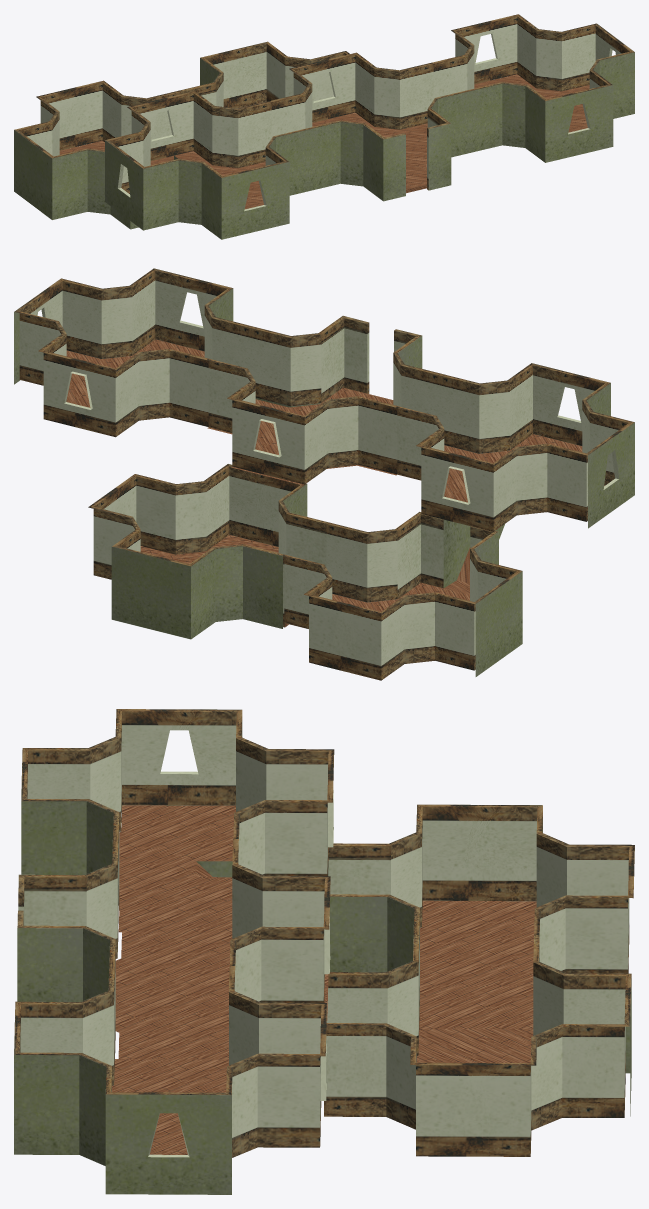
File: HouseInterior_3x1xbasementDoble.fbx
3 views of the same model, one above another, from view 1: azimuth 30°, elevation 25°; view 2: azimuth 150°, elevation 25°; view 3: azimuth 270°, elevation 25° (orthographic). The views are drawn at different scales.
Visible parts, largest first — view 1: sotano_01, pared_lv3_01, pared_lv3_02, pared_lv3_03, sotano_04, pared_lv1_04, pared_lv1_01, pared_lv2_06, pared_lv2_04, pared_lv2_02, pared_lv1_03, pared_lateral_07 (+8 smaller); view 2: sotano_04, sotano_01, pared_lv3_01, pared_lv3_03, pared_lv3_02, pared_lv1_01, pared_lv1_04, pared_lv2_03, pared_lv2_01, pared_lv2_05, pared_lv1_02, pared_lateral_07 (+8 smaller); view 3: sotano_01, sotano_04, suelo_bajada_02, suelo_06, pared_lv3_01, pared_lv3_02, pared_lv3_03, pared_lateral_08, pared_lv1_01, pared_lateral_07, pared_lv1_04, pared_lv1_02 (+8 smaller).
Part boxes in pixels (box(x1,y1,x2,y2)): sotano_01: box(14, 80, 180, 229); pared_lv3_01: box(432, 14, 596, 99); pared_lv3_02: box(270, 52, 433, 137); pared_lv3_03: box(105, 91, 271, 193); sotano_04: box(180, 41, 349, 108); pared_lv1_04: box(201, 147, 289, 239); pared_lv1_01: box(525, 70, 613, 162); pared_lv2_06: box(143, 159, 203, 230); pared_lv2_04: box(306, 120, 364, 191); pared_lv2_02: box(469, 82, 527, 152); pared_lv1_03: box(363, 123, 405, 201); pared_lateral_07: box(105, 140, 144, 230); sotano_04: box(88, 464, 327, 639); sotano_01: box(282, 511, 522, 680); pared_lv3_01: box(15, 311, 208, 437); pared_lv3_03: box(395, 406, 587, 531); pared_lv3_02: box(207, 358, 397, 484); pared_lv1_01: box(130, 268, 233, 355); pared_lv1_04: box(507, 363, 610, 450); pared_lv2_03: box(251, 326, 321, 407); pared_lv2_01: box(61, 278, 132, 358); pared_lv2_05: box(440, 374, 509, 453); pared_lv1_02: box(318, 315, 369, 404); pared_lateral_07: box(586, 422, 634, 528); sotano_01: box(328, 804, 634, 1028); sotano_04: box(324, 935, 631, 1156); suelo_bajada_02: box(118, 805, 328, 932); suelo_06: box(115, 932, 328, 1059); pared_lv3_01: box(226, 966, 326, 1157); pared_lv3_02: box(230, 839, 330, 1002); pared_lv3_03: box(233, 710, 334, 876); pared_lateral_08: box(105, 1092, 231, 1194); pared_lv1_01: box(14, 1001, 82, 1154); pared_lateral_07: box(117, 709, 242, 806); pared_lv1_04: box(21, 748, 90, 874); pared_lv1_02: box(17, 910, 84, 1001).
Bounding box in the file's own units: 13577 × 3176 × 9226.
